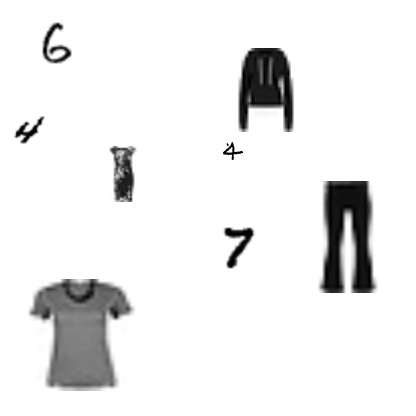4: (7, 109, 49, 151), (217, 137, 245, 165)
6: (25, 17, 81, 73)
7: (209, 214, 265, 270)
Dress: (94, 146, 150, 202)
Pullover: (224, 48, 308, 132)
T-shirt/top: (26, 279, 138, 391)
Trouser: (292, 181, 404, 293)
